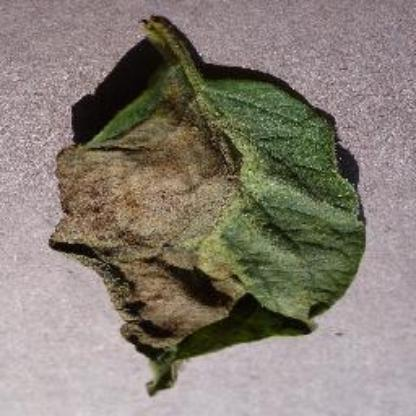Late-Blight: (50, 5, 374, 396)
